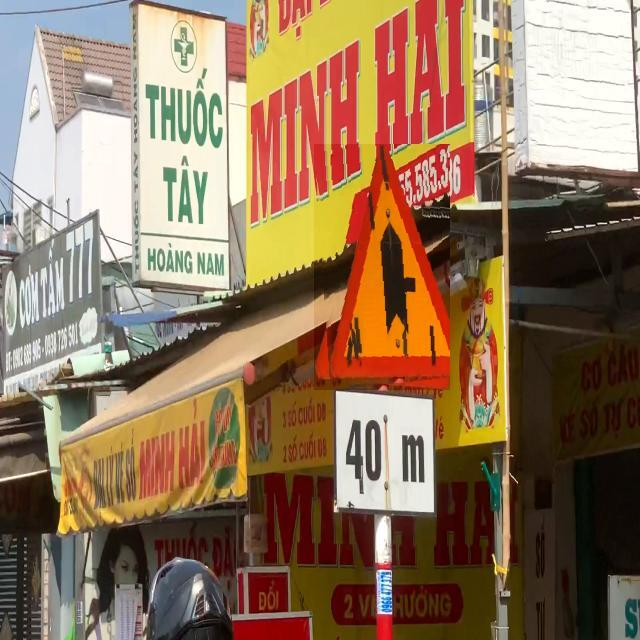W-207b: (314, 144, 450, 390)
